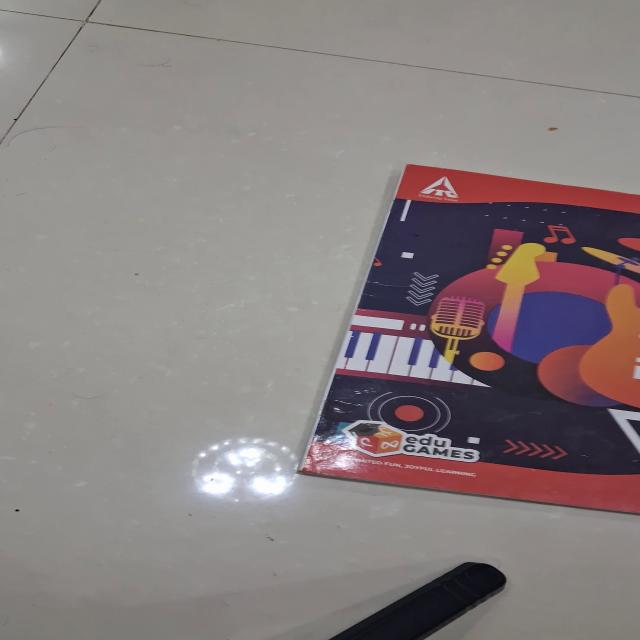paper: (294, 163, 639, 514)
